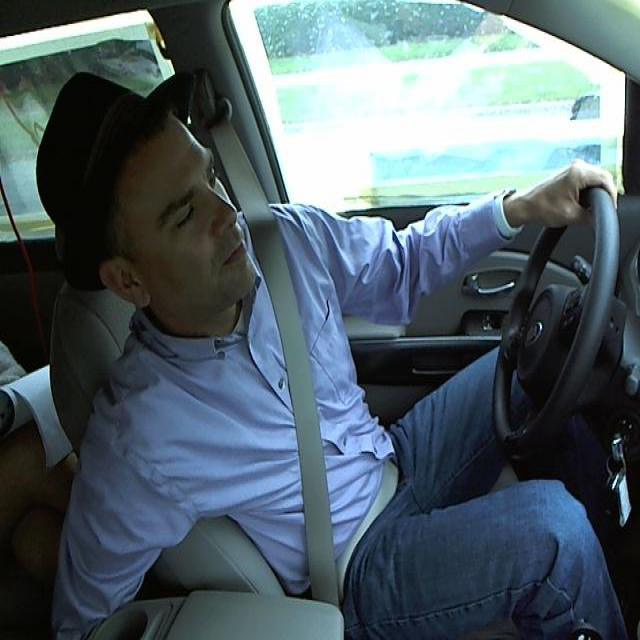seatbelt: (242, 216, 367, 589)
